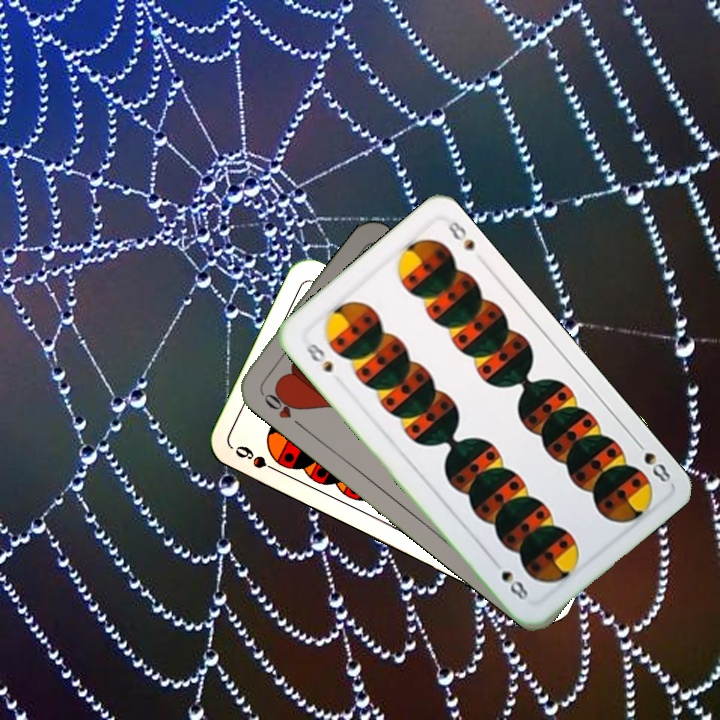HO: (256, 384, 305, 430)
S8: (630, 435, 674, 486), (301, 339, 336, 376)
S9: (230, 441, 285, 477)
